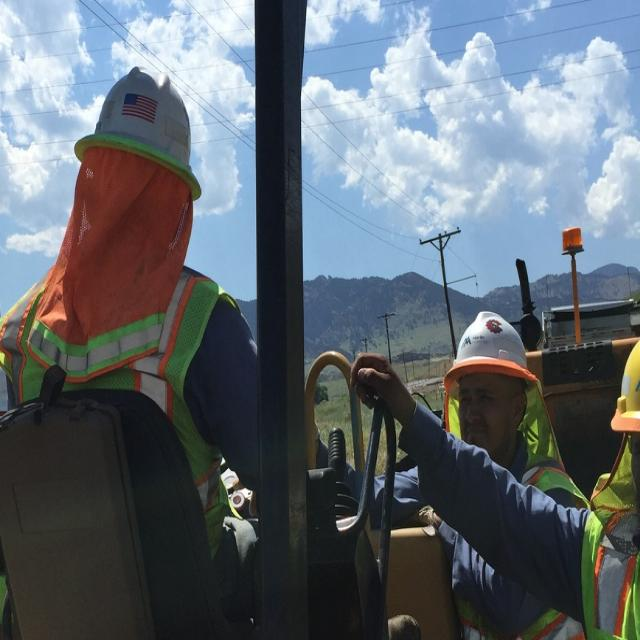Reflective-Jacket: (0, 257, 253, 636), (577, 442, 639, 640)
Safety-Helmet: (71, 61, 205, 200), (442, 306, 539, 387), (611, 324, 640, 438)
